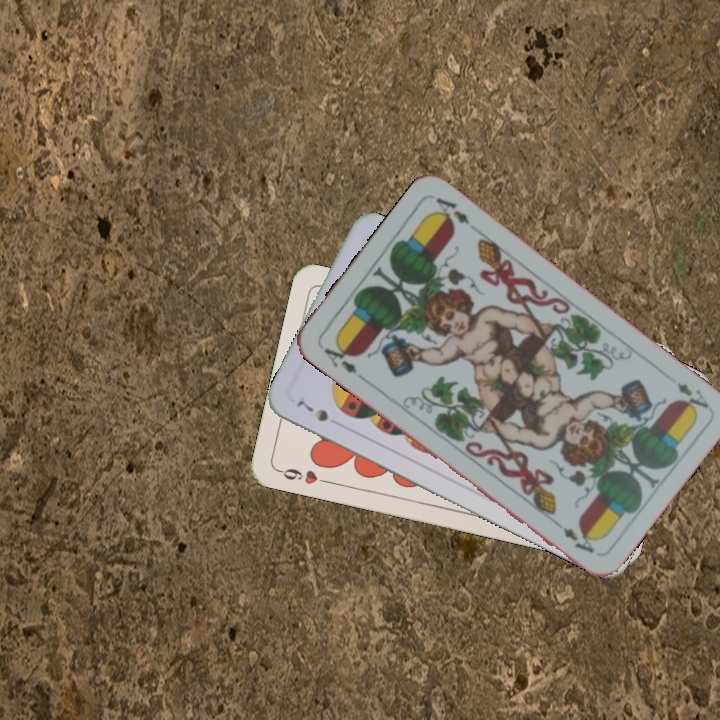EA: (319, 337, 367, 383), (672, 378, 711, 416)
H9: (274, 464, 333, 487)
S7: (292, 396, 331, 425)
